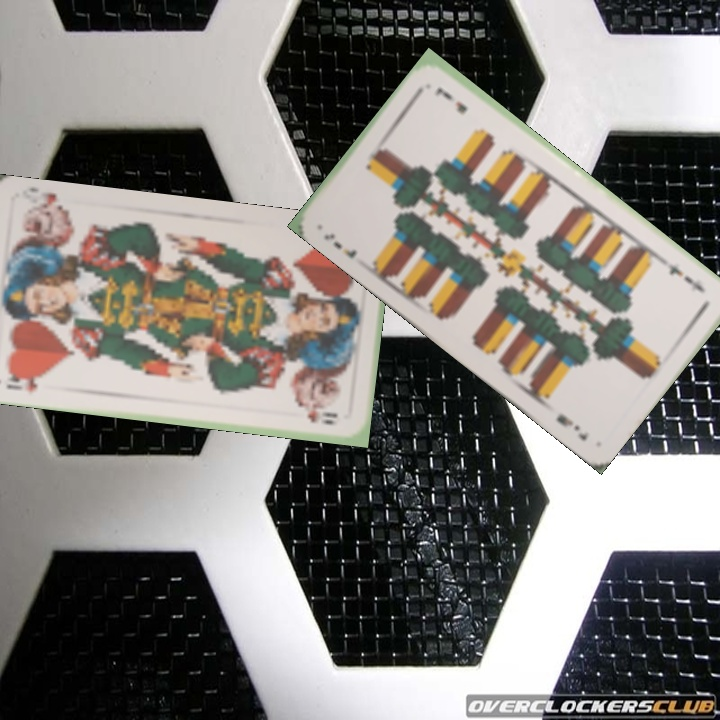E7: (661, 256, 708, 295), (320, 229, 359, 261)
HO: (2, 369, 40, 398)
